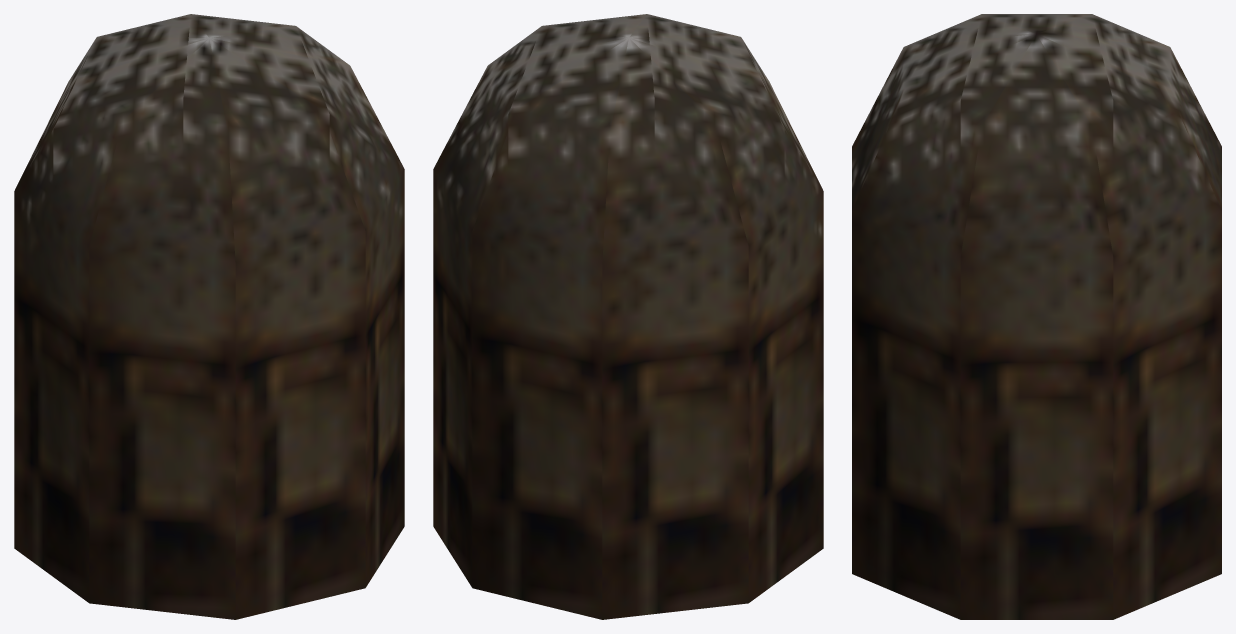
File: prop-047.glb
The picture shows the model from 3 angles, left to right: view 1: azimuth 30°, elevation 25°; view 2: azimuth 150°, elevation 25°; view 3: azimuth 270°, elevation 25°; orthographic projection.
Visible parts, largest first — view 1: root; view 2: root; view 3: root.
Part boxes in pixels (x1,y1,x2,y2): root: [14, 14, 404, 619]; root: [433, 14, 823, 619]; root: [852, 14, 1221, 619].
Bounding box in the file's own units: 0.9238 × 1.4 × 0.9238.
1 material, 1 textured.
